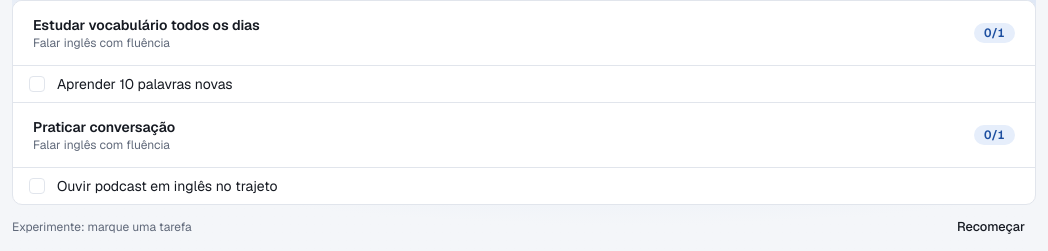
DemoCard › unticking reverts
Click the checkbox named "Aprender 10 palavras novas" next to "Aprender 10 palavras novas" at (37, 84), box [29,76,45,92]
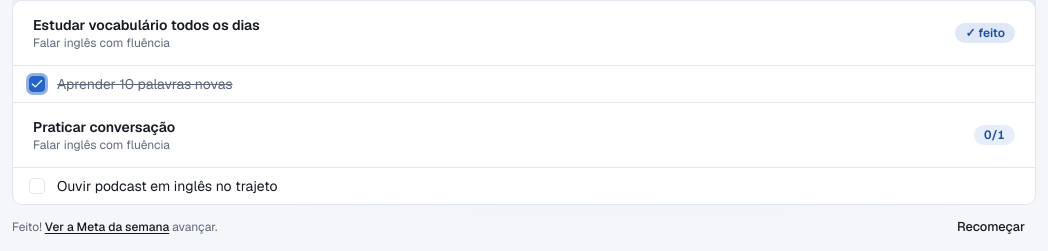
Expected: the checkbox named "Aprender 10 palavras novas" next to "Aprender 10 palavras novas" is checked
Click the checkbox named "Aprender 10 palavras novas" next to "Aprender 10 palavras novas" at (37, 84), box [29,76,45,92]
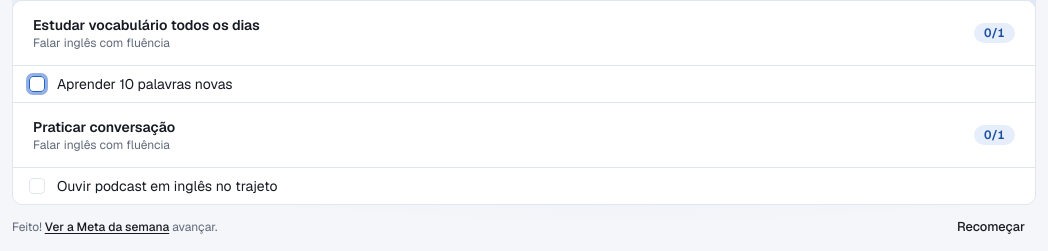
Expected: the checkbox named "Aprender 10 palavras novas" next to "Aprender 10 palavras novas" is not checked, [29,76,45,92]
Expected: the text "✓ feito" is gone
